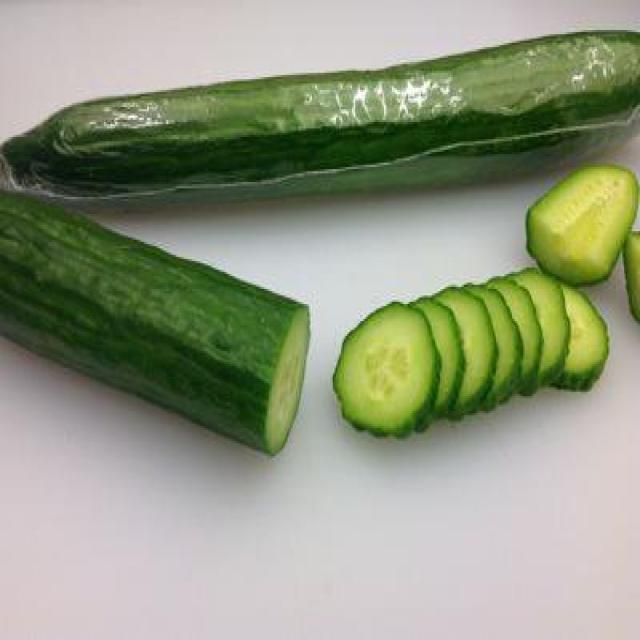cucumber: (3, 28, 640, 200), (0, 193, 312, 454)
